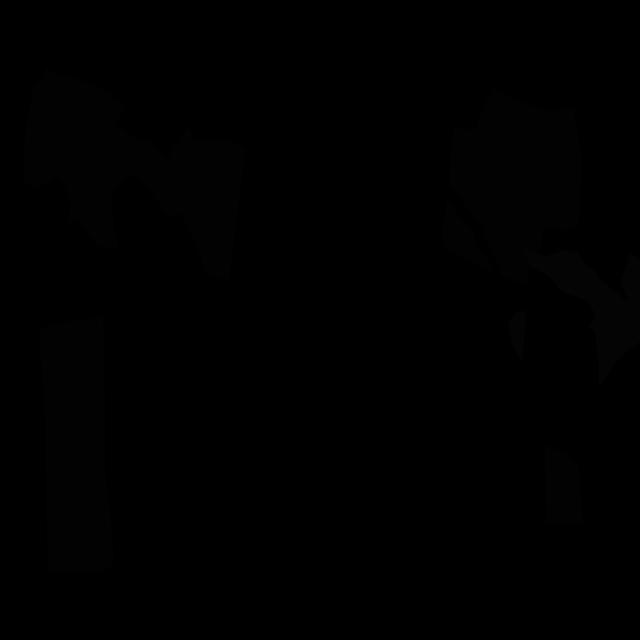cardboard: (23, 67, 245, 281), (449, 87, 582, 285), (38, 316, 114, 571), (441, 199, 492, 272), (545, 444, 584, 525)
soft_plastic: (521, 244, 640, 389), (508, 311, 526, 364)
